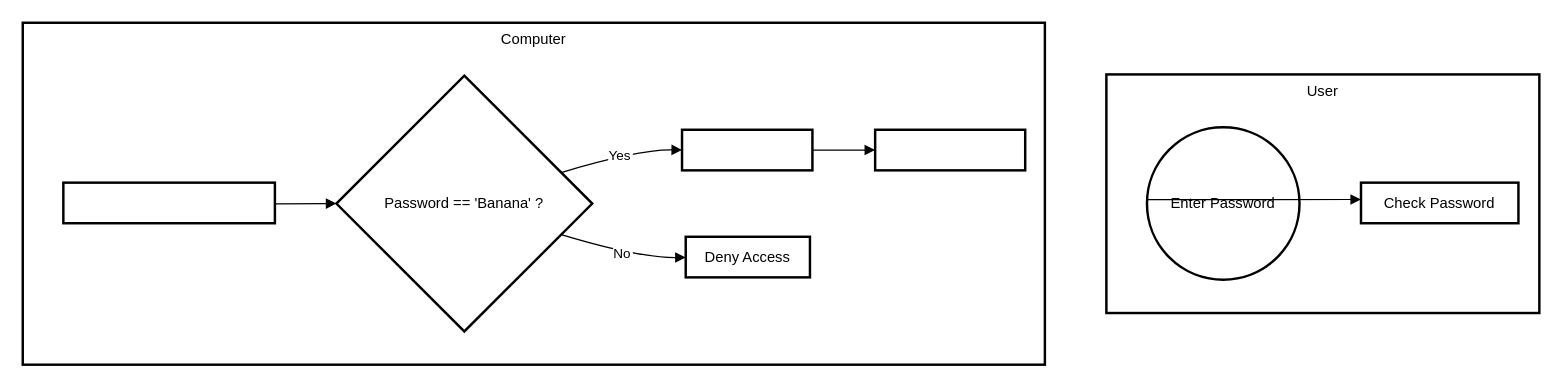
Image size: 1561x386. Some labels were removed from this diagram. The shapes that lost their labels are listed below. From the top down, each one's centre as x and y in pixels, then its label:
At point 746,149: "Allow Access".
At point 949,149: "Perform Action".
At point 169,202: "Ask User for Password".
